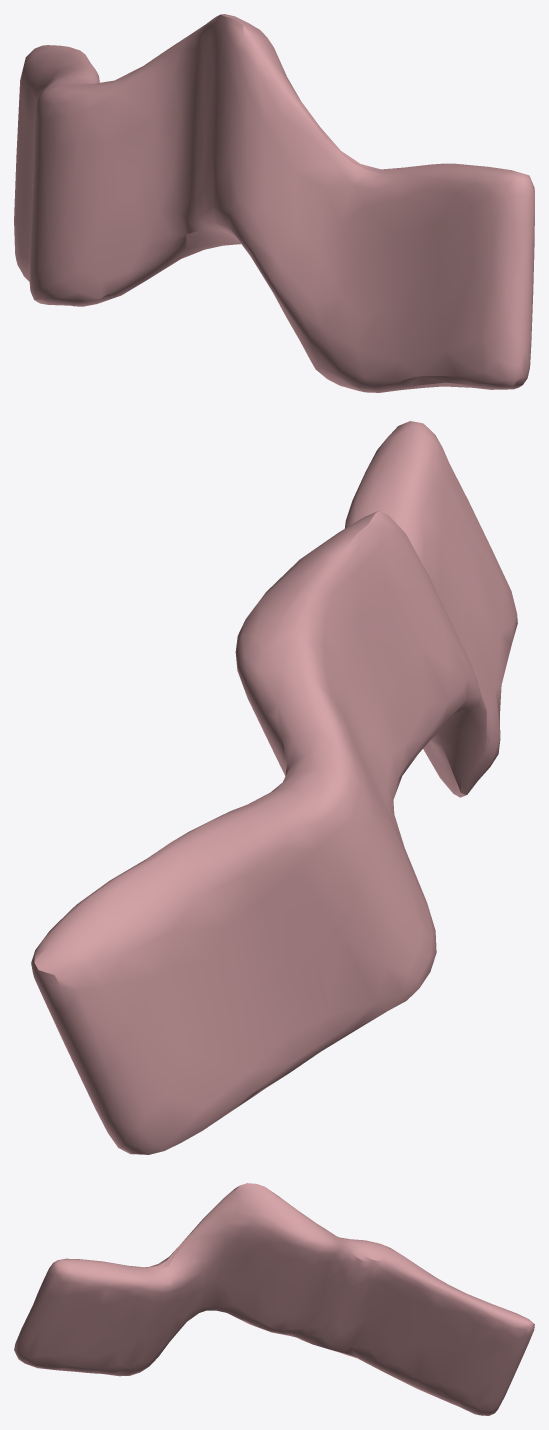
The model's file is fma275373-n_mm3381m.glb.
3 views of the same model, one above another, from view 1: azimuth 30°, elevation 25°; view 2: azimuth 150°, elevation 25°; view 3: azimuth 270°, elevation 25° (orthographic). The views are drawn at different scales.
Parts seen in each view (by area): view 1: FMA275373-N_MM3381M; view 2: FMA275373-N_MM3381M; view 3: FMA275373-N_MM3381M.
Part boxes in pixels (<box>): FMA275373-N_MM3381M: <box>14,14,534,392</box>; FMA275373-N_MM3381M: <box>31,421,517,1154</box>; FMA275373-N_MM3381M: <box>14,1183,534,1415</box>.
Bounding box in the file's own units: 0.0131 × 0.0185 × 0.0378.
